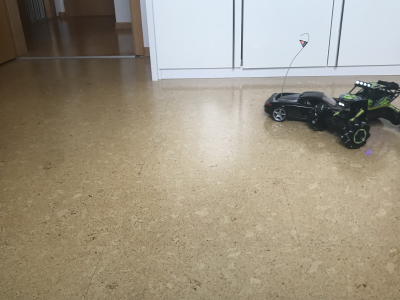remote control car: (308, 77, 400, 150)
